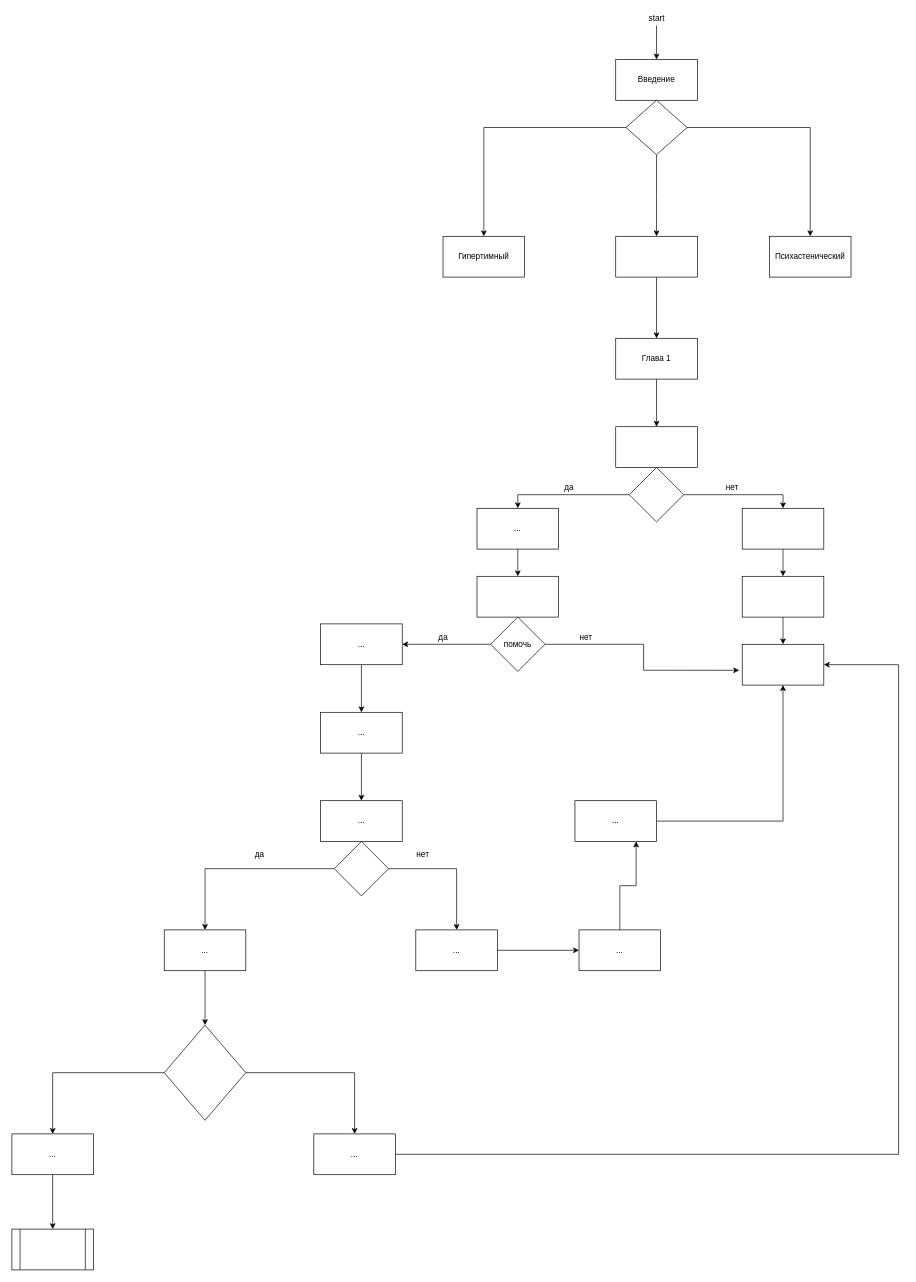
This 916x1282 diagram has some shape labels left out. Here are the shapes that lost their labels. From the top down, the centre of each, then its label:
(656,127): выбор личности
(656,256): Конформный
(656,447): Глава 2
(783,664): конец главы 2
(361,868): пойти с ней
(205,1072): настоять
(52,1249): 1 флаг истины
